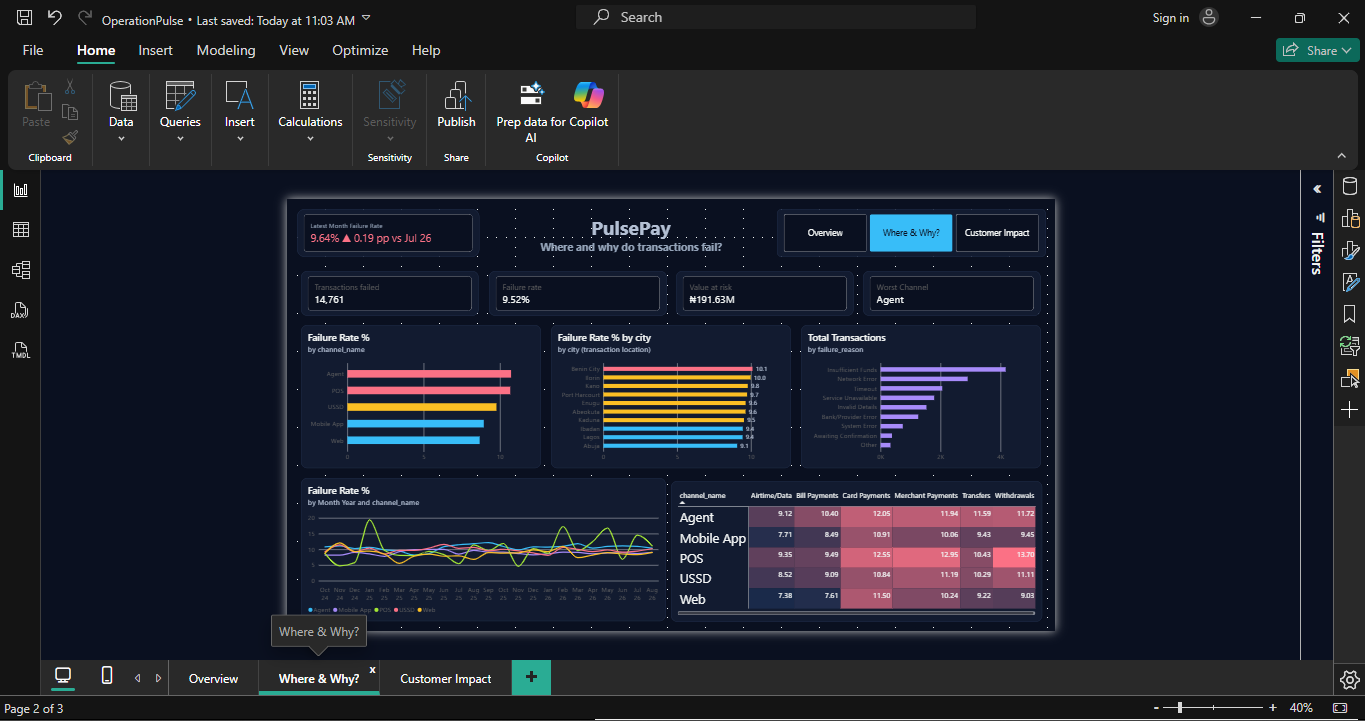

This screenshot's page, from the dashboard's own definition file:
{"tool":"powerbi","page":{"name":"Where & Why?","canvas":[1920,1080],"ordinal":1},"visuals":[{"type":"cardVisual","fields":{"Data":["transactions.Transactions failed"]},"box":[36,180,444,112],"z":0},{"type":"cardVisual","fields":{"Data":["transactions.Failure rate"]},"box":[504,180,444,112],"z":1000},{"type":"cardVisual","fields":{"Data":["transactions.Value at risk"]},"box":[972,180,444,112],"z":2000},{"type":"cardVisual","fields":{"Data":["transactions.Worst Channel"]},"box":[1440,180,444,112],"z":3000},{"type":"clusteredBarChart","fields":{"Category":["channels.channel_name"],"Y":["transactions.Failure Rate %"]},"box":[36,316,600,358],"z":4000},{"type":"clusteredBarChart","fields":{"Category":["locations.city"],"Y":["transactions.Failure Rate %"]},"box":[660,316,600,358],"z":5000},{"type":"clusteredBarChart","fields":{"Category":["transactions.failure_reason"],"Y":["transactions.Total Transactions"]},"box":[1284,316,600,358],"z":6000},{"type":"lineChart","fields":{"Category":["Dim_Date.Month Year"],"Series":["channels.channel_name"],"Y":["transactions.Failure Rate %"]},"box":[36,698,912,358],"z":7000},{"type":"pivotTable","fields":{"Columns":["services.service_category"],"Rows":["channels.channel_name"],"Values":["transactions.Failure Rate %"]},"box":[960,704,928,352],"z":8000},{"type":"textbox","box":[264,24,1200,120],"z":9000},{"type":"pageNavigator","box":[1224,24,672,120],"z":9001},{"type":"cardVisual","fields":{"Data":["transactions.Failure Headline"]},"box":[24,24,456,120],"z":9002}]}

Visuals, with their boxes on the page's 1920x1080 design canvas (x1, y1, x2, y2). These are canvas units, not pixel positions in the 1365x721 screenshot, which may show the page scaled, cropped or inside an application window:
cardVisual - transactions.Transactions failed: Rect(36, 180, 480, 292)
cardVisual - transactions.Failure rate: Rect(504, 180, 948, 292)
cardVisual - transactions.Value at risk: Rect(972, 180, 1416, 292)
cardVisual - transactions.Worst Channel: Rect(1440, 180, 1884, 292)
clusteredBarChart - channels.channel_name x transactions.Failure Rate %: Rect(36, 316, 636, 674)
clusteredBarChart - locations.city x transactions.Failure Rate %: Rect(660, 316, 1260, 674)
clusteredBarChart - transactions.failure_reason x transactions.Total Transactions: Rect(1284, 316, 1884, 674)
lineChart - Dim_Date.Month Year x channels.channel_name: Rect(36, 698, 948, 1056)
pivotTable - services.service_category x channels.channel_name: Rect(960, 704, 1888, 1056)
textbox: Rect(264, 24, 1464, 144)
pageNavigator: Rect(1224, 24, 1896, 144)
cardVisual - transactions.Failure Headline: Rect(24, 24, 480, 144)
